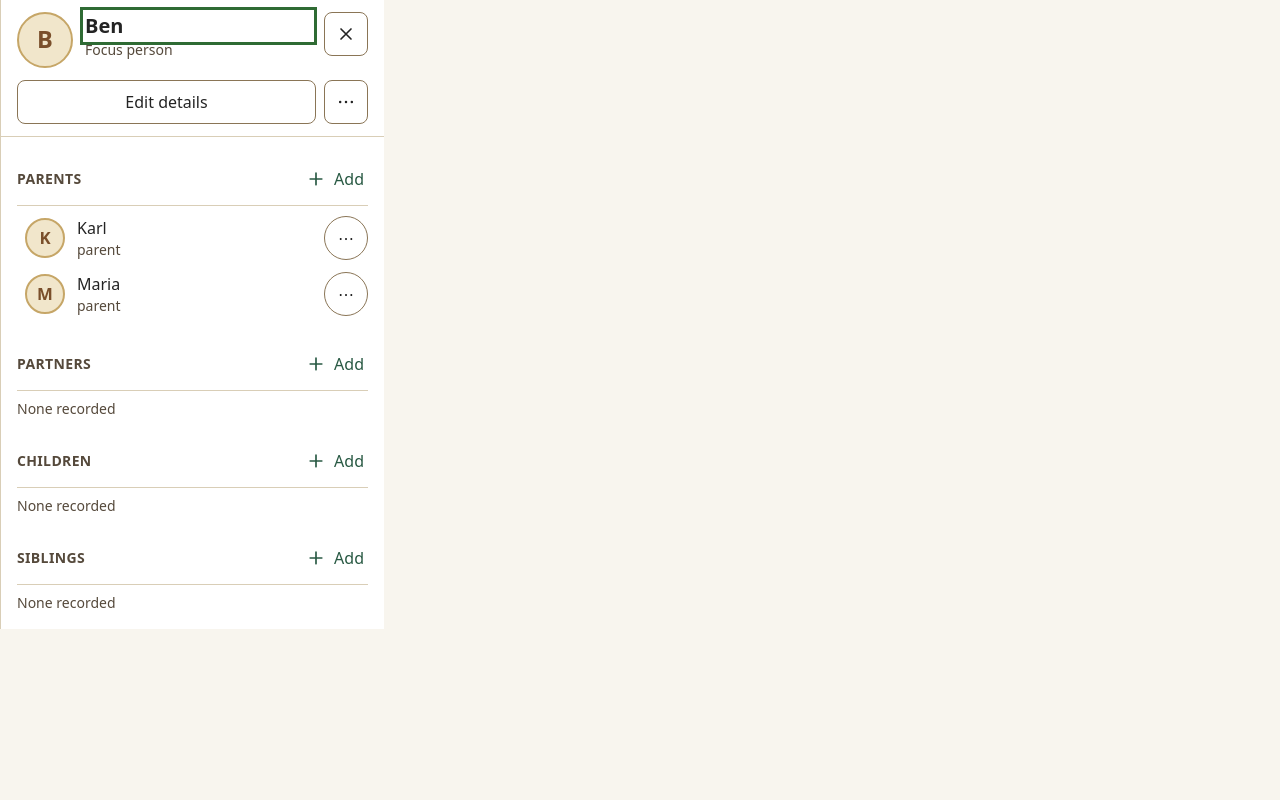
it: the flow › explains a dead end instead of listing people when the Person has two birth parents already
Click the button with aria-label "Add parent": (335, 179) [294,157,376,201]
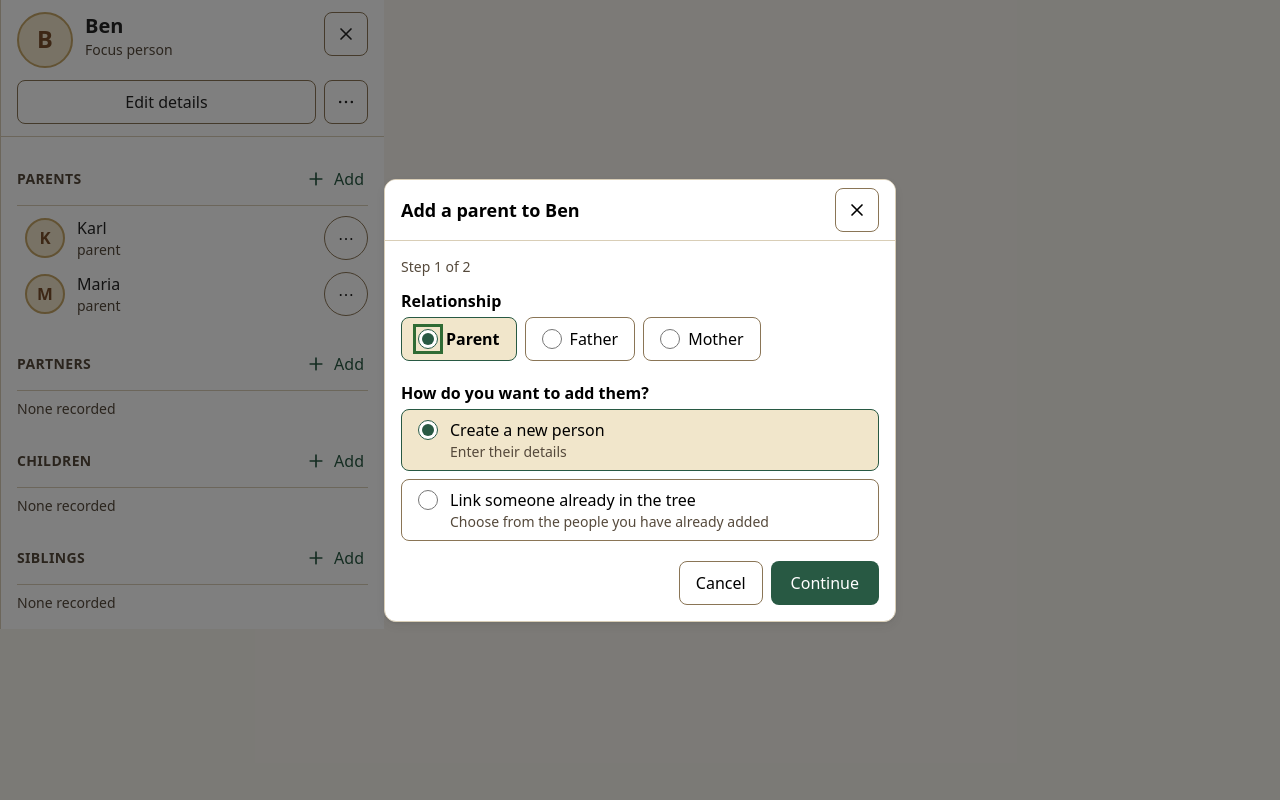
Click the radio button labelled "Father": (552, 338) [542,328,562,348]
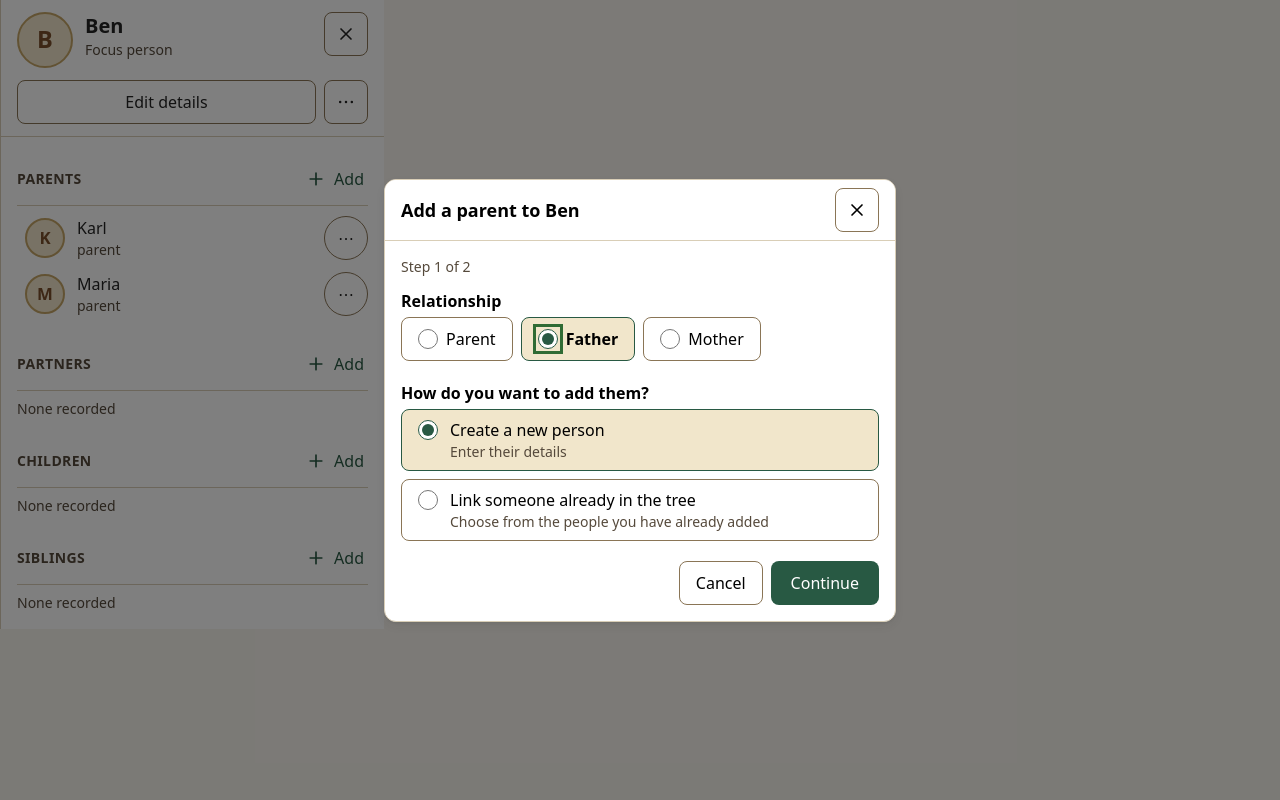
Click the radio button labelled "Link someone": (428, 500) [418,490,438,510]
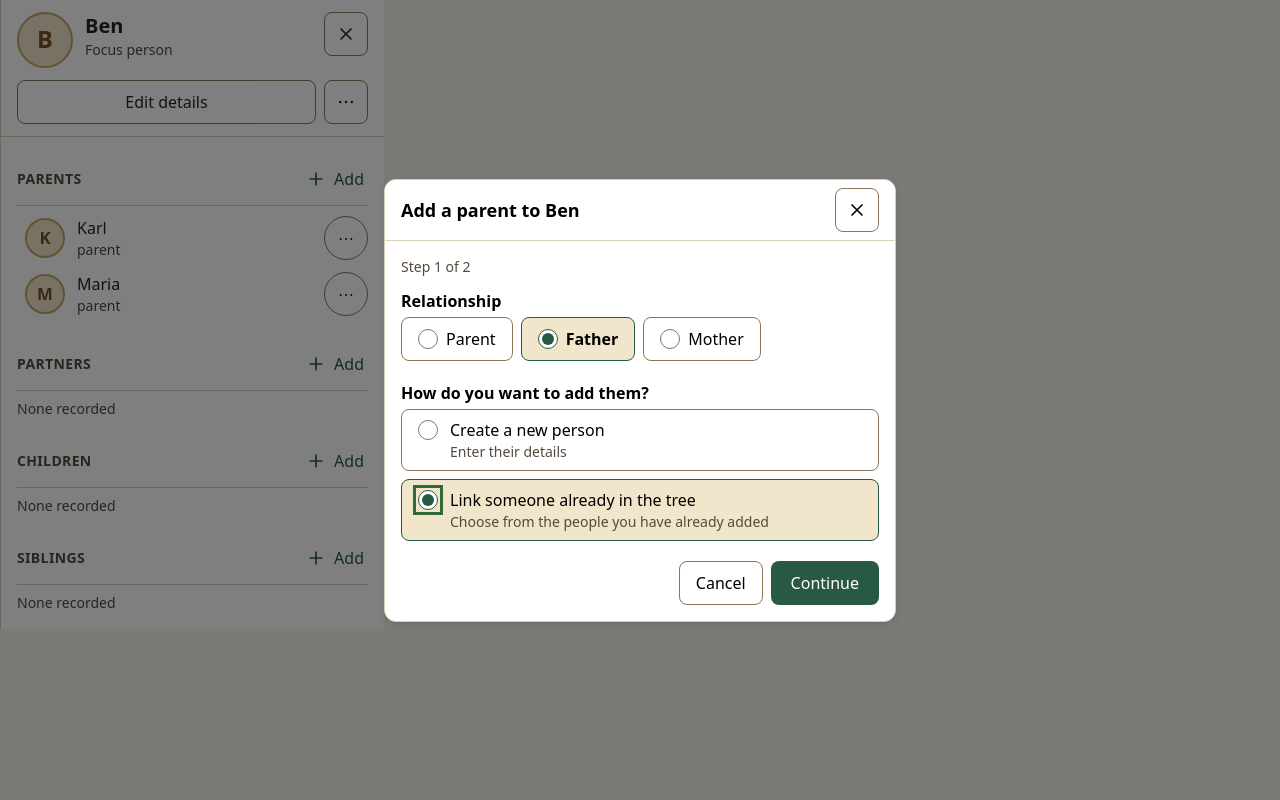
Click the button "Continue": (825, 582) [771,560,879,604]
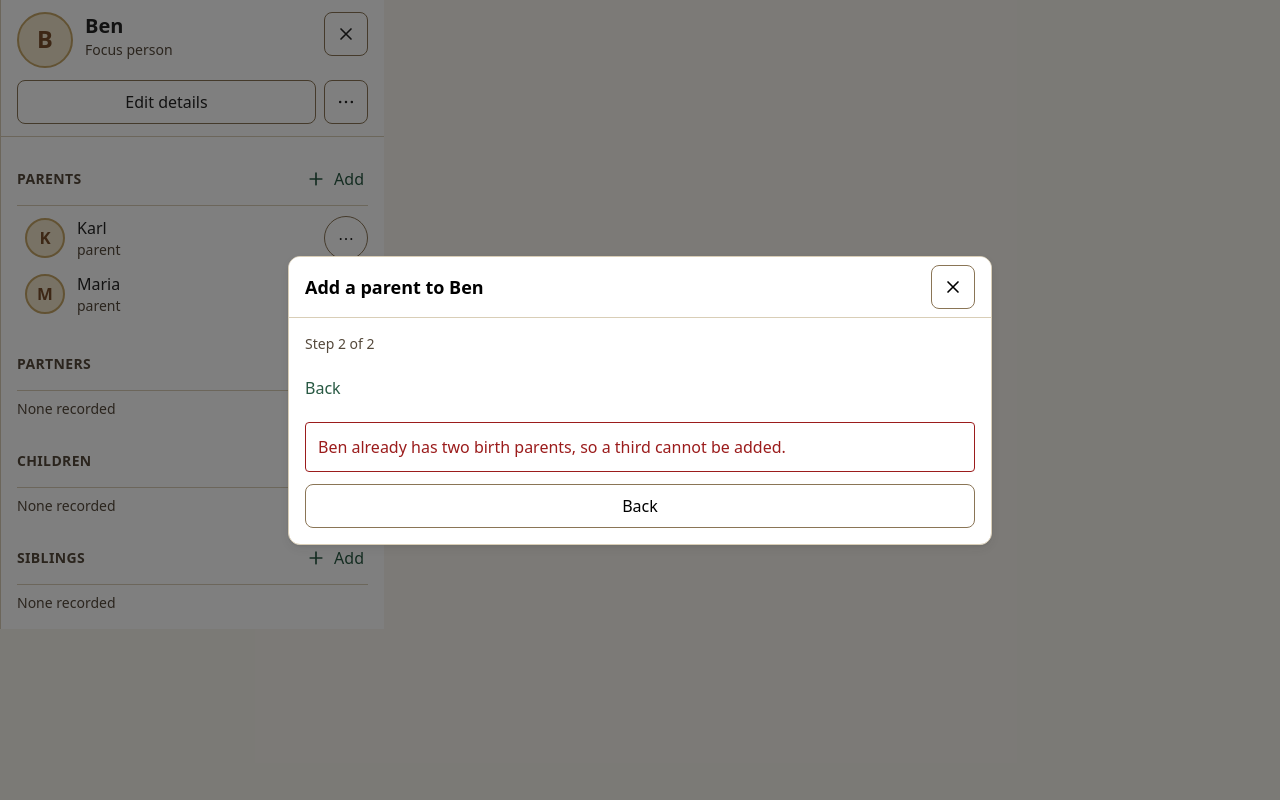
Now the message "Ben already has two birth parents, so a third cannot be added." is shown, box [305,422,975,472]
